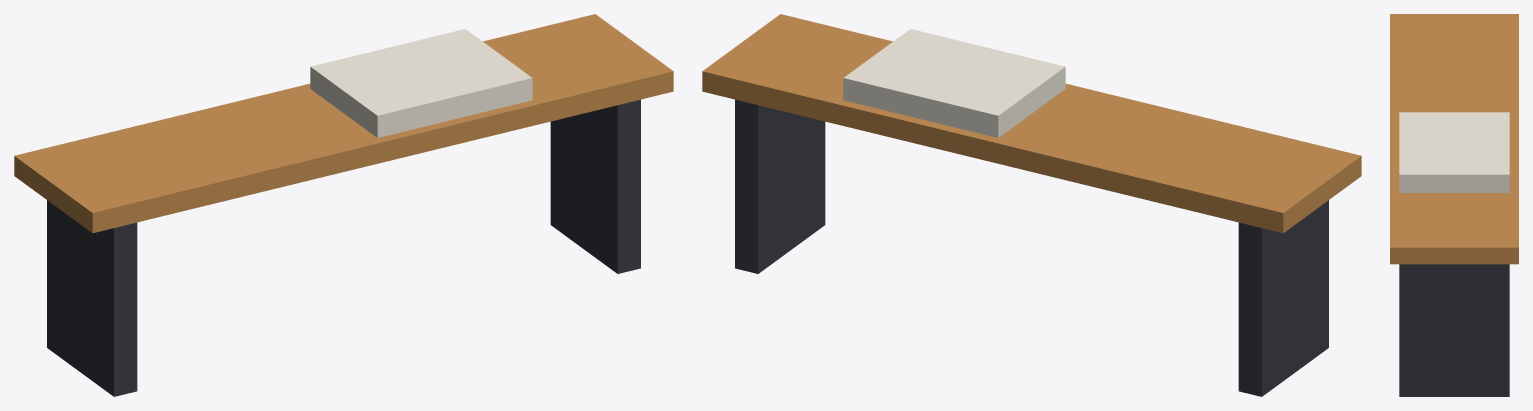
Rendered from gym_towel_bench.fbx.
The picture shows the model from 3 angles, left to right: view 1: azimuth 30°, elevation 25°; view 2: azimuth 150°, elevation 25°; view 3: azimuth 270°, elevation 25°; orthographic projection. The views are drawn at different scales.
Visible parts, largest first — view 1: gym_towel_bench; view 2: gym_towel_bench; view 3: gym_towel_bench.
Part boxes in pixels (x1,y1,x2,y2): gym_towel_bench: [14, 14, 673, 396]; gym_towel_bench: [702, 14, 1361, 396]; gym_towel_bench: [1390, 14, 1518, 396].
Bounding box in the file's own units: 1.5 × 0.535 × 0.35.
